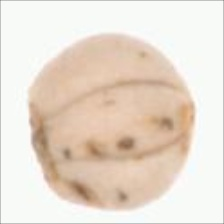L5: (45, 78, 198, 164), (24, 96, 60, 184)
L6: (23, 32, 198, 213)
